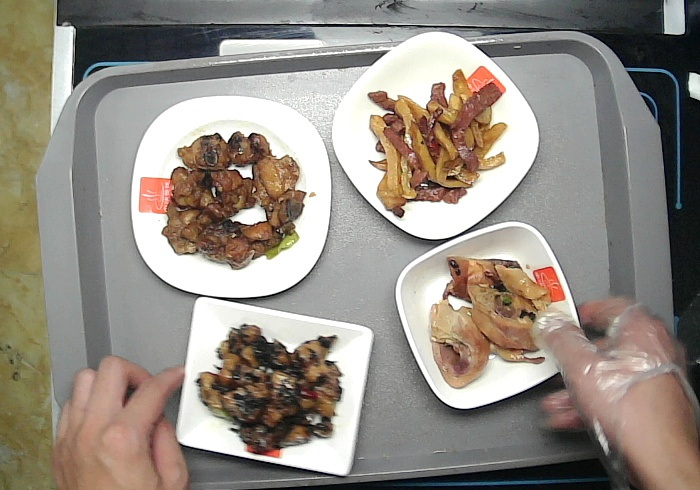SHKJ-Bai_Se_Cai_Die: (332, 29, 542, 242)
SHKJ-Bai_Se_Si_Fang_Cai_Die: (129, 94, 333, 301)
SHKJ-Bai_Se_Xiao_Fang_Die: (392, 218, 584, 411)
SHKJ-Si_Fang_Min: (172, 293, 377, 480)
